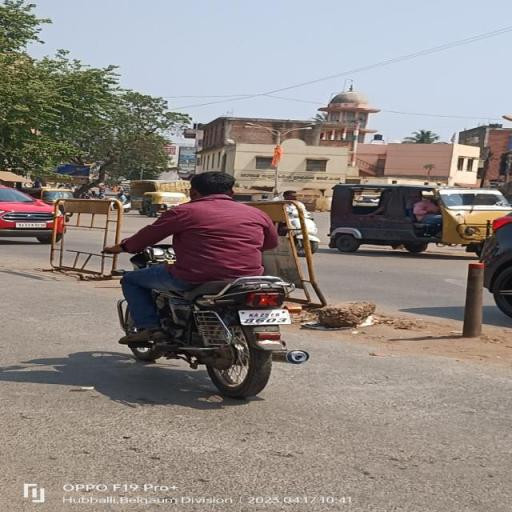bike: (96, 166, 314, 400)
numberplate: (240, 310, 290, 324)
withouthelmet: (191, 171, 235, 196)
